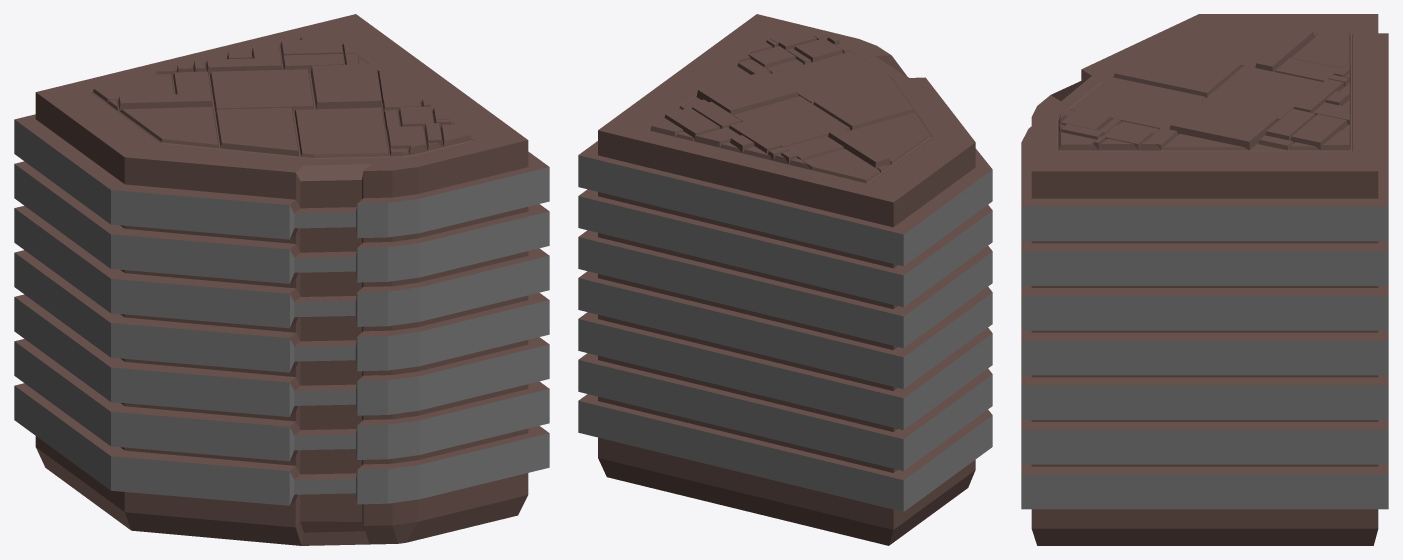
Rendered from 堡垒内部层.fbx.
The picture shows the model from 3 angles, left to right: view 1: azimuth 30°, elevation 25°; view 2: azimuth 150°, elevation 25°; view 3: azimuth 270°, elevation 25°; orthographic projection. The views are drawn at different scales.
Visible parts, largest first — view 1: 堡垒内部层; view 2: 堡垒内部层; view 3: 堡垒内部层.
Boxes of the visible parts, x1,y1,x2,y2 form: 堡垒内部层: (14,14,549,545); 堡垒内部层: (578,14,992,545); 堡垒内部层: (1021,14,1388,545).
Size of the model in its own units: 2.8 by 2.91 by 2.51.
